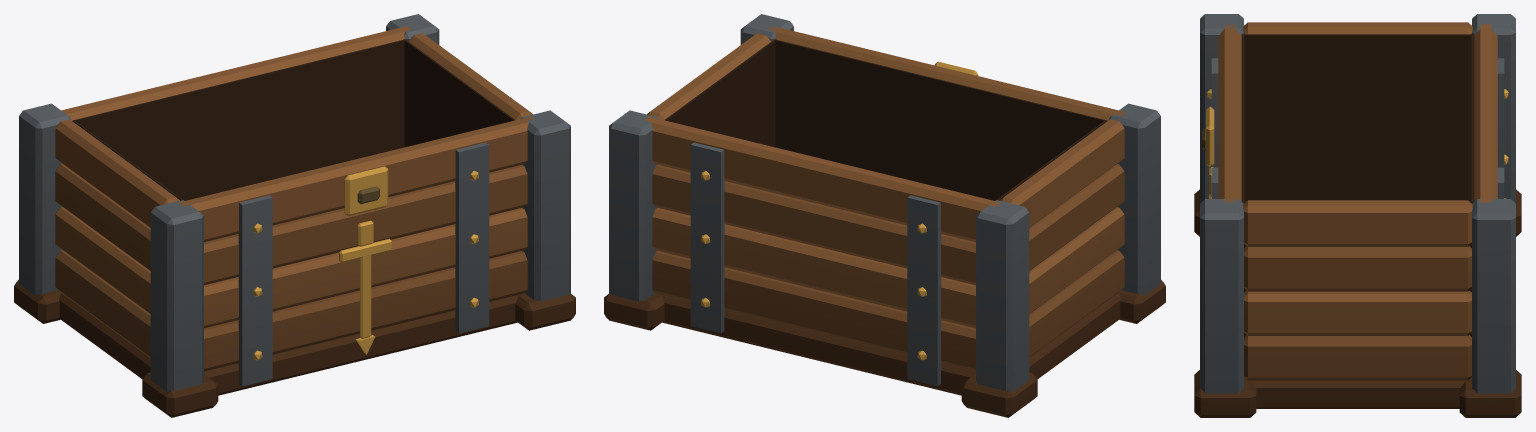
The model's file is Chest_Body.fbx.
3 renders of one model, left to right at view 1: azimuth 30°, elevation 25°; view 2: azimuth 150°, elevation 25°; view 3: azimuth 270°, elevation 25°, orthographic. The views are drawn at different scales.
Visible parts, largest first — view 1: WeaponChest.001; view 2: WeaponChest.001; view 3: WeaponChest.001.
Boxes of the visible parts, x1,y1,x2,y2 form: WeaponChest.001: (14, 14, 575, 417); WeaponChest.001: (604, 14, 1165, 417); WeaponChest.001: (1194, 14, 1521, 417).
Size of the model in its own units: 0.9456 by 0.633 by 0.435.
